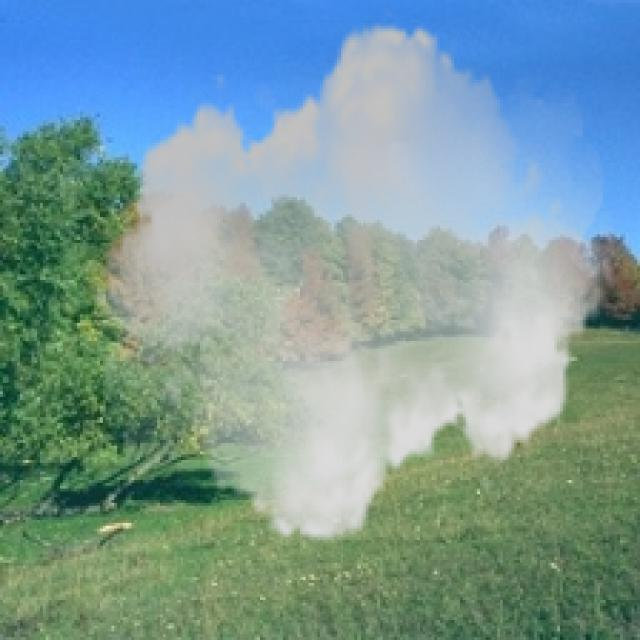smoke: (91, 3, 614, 563)
